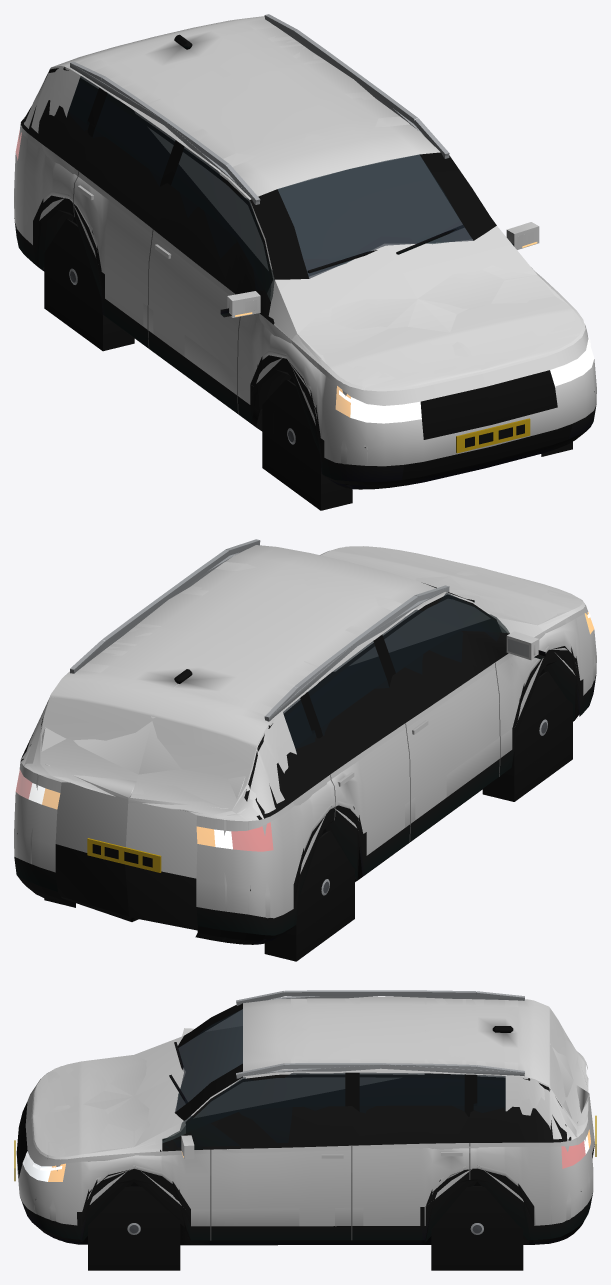
File: suv.glb
The picture shows the model from 3 angles, top to bottom: view 1: azimuth 30°, elevation 25°; view 2: azimuth 150°, elevation 25°; view 3: azimuth 270°, elevation 25°; orthographic projection. The views are drawn at different scales.
Parts seen in each view (by area): view 1: body (×3); view 2: body (×3); view 3: body (×3).
Part boxes in pixels (x1,y1,x2,y2): body (×3): [14, 14, 596, 510]; body (×3): [14, 539, 596, 961]; body (×3): [14, 990, 596, 1270].
Size of the model in its own units: 2.23 by 1.69 by 4.55.
